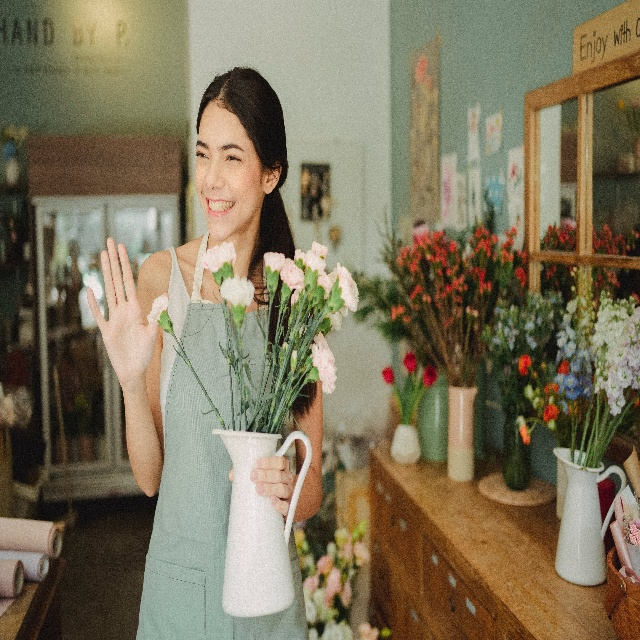Sin_guantes: (85, 237, 160, 387), (227, 454, 295, 515)
